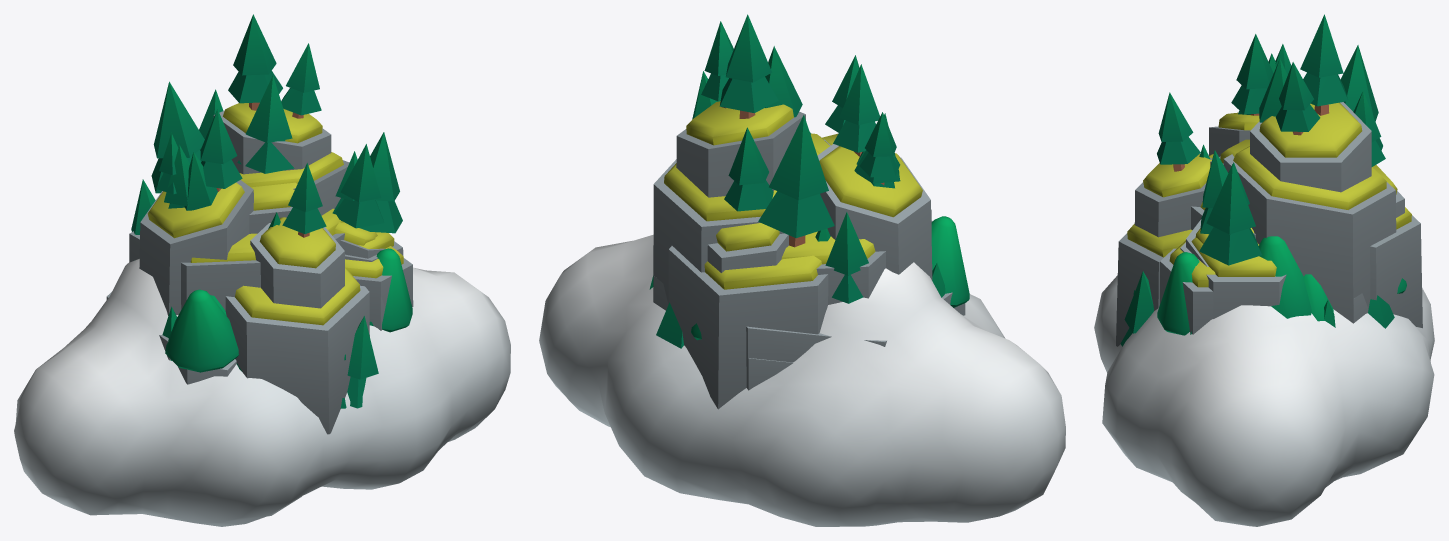
The model's file is terrain.glb.
The picture shows the model from 3 angles, left to right: view 1: azimuth 30°, elevation 25°; view 2: azimuth 150°, elevation 25°; view 3: azimuth 270°, elevation 25°; orthographic projection. The views are drawn at different scales.
Parts seen in each view (by area): view 1: cloud_big, mountain_C_grass_trees, mountain_A_grass_trees, mountain_C, mountain_B_grass_trees, mountain_C_grass, trees_B_large, mountain_B_grass, mountain_A_grass, trees_A_large, mountain_A, mountain_B; view 2: cloud_big, mountain_C_grass_trees, mountain_B_grass_trees, mountain_C, mountain_A_grass_trees, mountain_C_grass, mountain_B_grass, mountain_A_grass, trees_B_large, mountain_B, mountain_A, trees_A_large; view 3: cloud_big, mountain_B_grass_trees, mountain_C_grass_trees, mountain_B_grass, mountain_A_grass_trees, mountain_C, mountain_B, mountain_C_grass, trees_B_large, trees_B_medium, trees_A_large, mountain_A_grass (+1 smaller).
Boxes of the visible parts, left/top/right/bottom form: cloud_big: left=14, top=259, right=510, bottom=526; mountain_C_grass_trees: left=140, top=89, right=385, bottom=408; mountain_A_grass_trees: left=151, top=75, right=412, bottom=329; mountain_C: left=139, top=190, right=385, bottom=434; mountain_B_grass_trees: left=106, top=14, right=403, bottom=359; mountain_C_grass: left=149, top=183, right=385, bottom=384; trees_B_large: left=165, top=248, right=412, bottom=372; mountain_B_grass: left=223, top=103, right=394, bottom=260; mountain_A_grass: left=129, top=182, right=412, bottom=309; trees_A_large: left=162, top=306, right=378, bottom=408; mountain_A: left=129, top=213, right=413, bottom=310; mountain_B: left=107, top=110, right=402, bottom=360; cloud_big: left=539, top=234, right=1065, bottom=526; mountain_C_grass_trees: left=680, top=55, right=932, bottom=409; mountain_B_grass_trees: left=653, top=14, right=954, bottom=362; mountain_C: left=668, top=192, right=965, bottom=408; mountain_A_grass_trees: left=654, top=46, right=900, bottom=390; mountain_C_grass: left=704, top=133, right=918, bottom=333; mountain_B_grass: left=653, top=104, right=831, bottom=389; mountain_A_grass: left=748, top=133, right=931, bottom=389; trees_B_large: left=931, top=216, right=969, bottom=307; mountain_B: left=653, top=111, right=952, bottom=388; mountain_A: left=748, top=210, right=931, bottom=389; trees_A_large: left=649, top=263, right=945, bottom=348; cloud_big: left=1094, top=275, right=1434, bottom=526; mountain_B_grass_trees: left=1180, top=14, right=1396, bottom=323; mountain_C_grass_trees: left=1117, top=34, right=1420, bottom=314; mountain_B_grass: left=1180, top=103, right=1391, bottom=294; mountain_A_grass_trees: left=1160, top=45, right=1382, bottom=322; mountain_C: left=1116, top=130, right=1422, bottom=346; mountain_B: left=1209, top=102, right=1371, bottom=293; mountain_C_grass: left=1131, top=112, right=1411, bottom=307; trees_B_large: left=1133, top=252, right=1333, bottom=335; trees_B_medium: left=1259, top=236, right=1406, bottom=318; trees_A_large: left=1120, top=271, right=1394, bottom=346; mountain_A_grass: left=1183, top=141, right=1353, bottom=334.
Size of the model in its own units: 3.61 by 3.41 by 2.24.
Materials: 1 (1 with a texture image).
